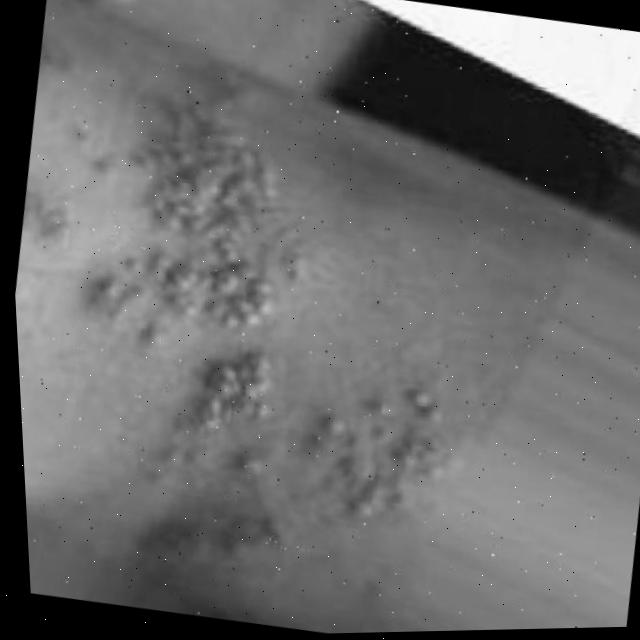Shingles: (120, 336, 486, 618), (4, 64, 334, 344)
